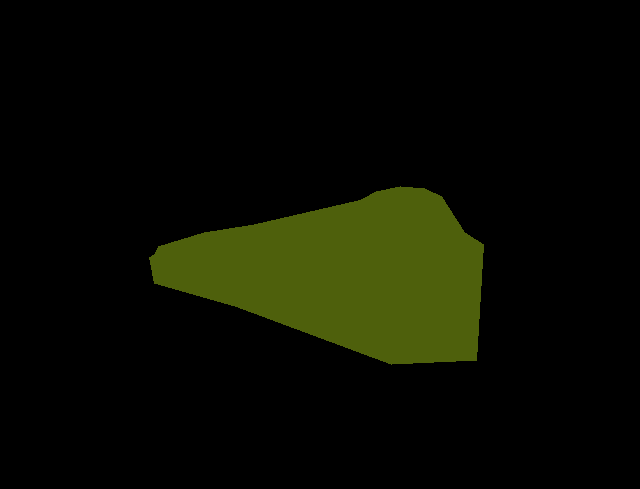Train: (149, 186, 484, 365)
